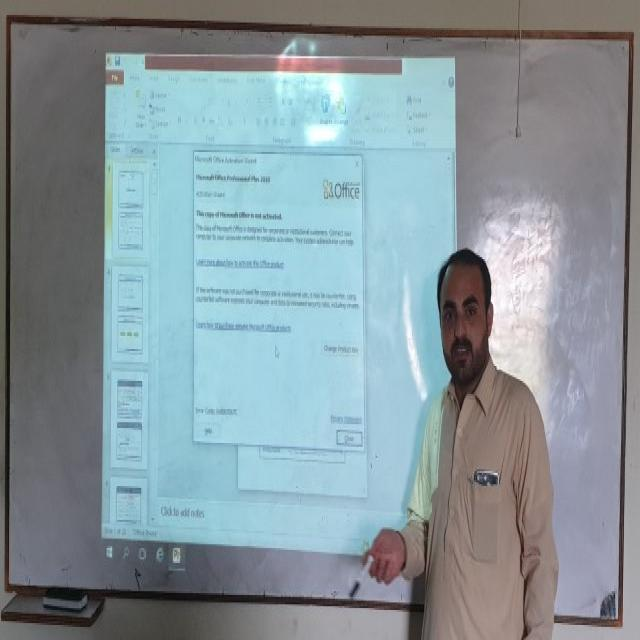Instructor: (421, 236, 547, 640)
Slide: (102, 49, 460, 583)
White-board: (6, 14, 630, 625)
